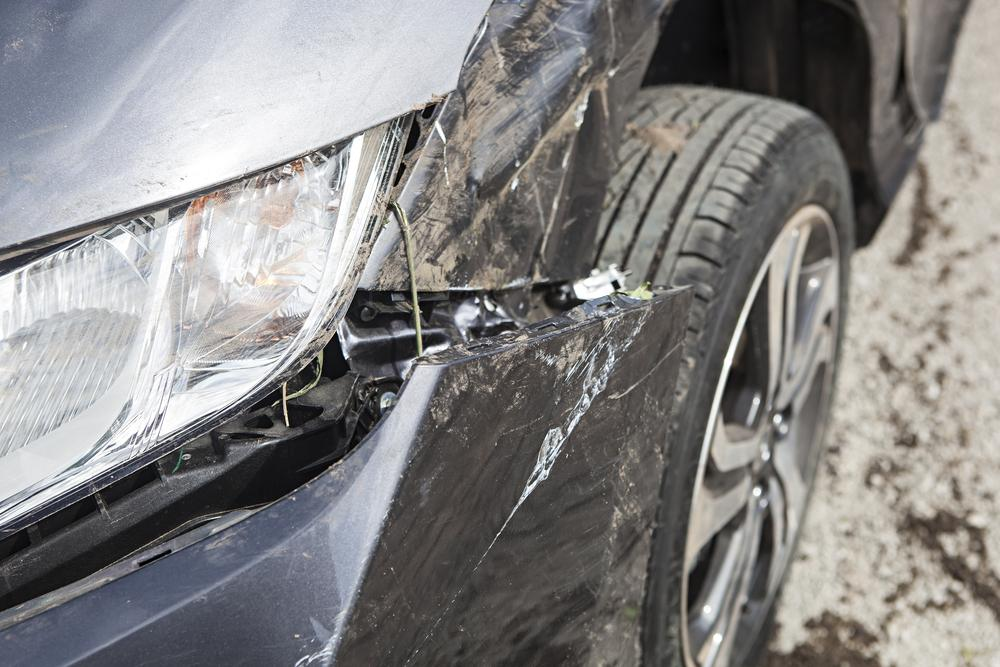scratch: (468, 306, 658, 575)
